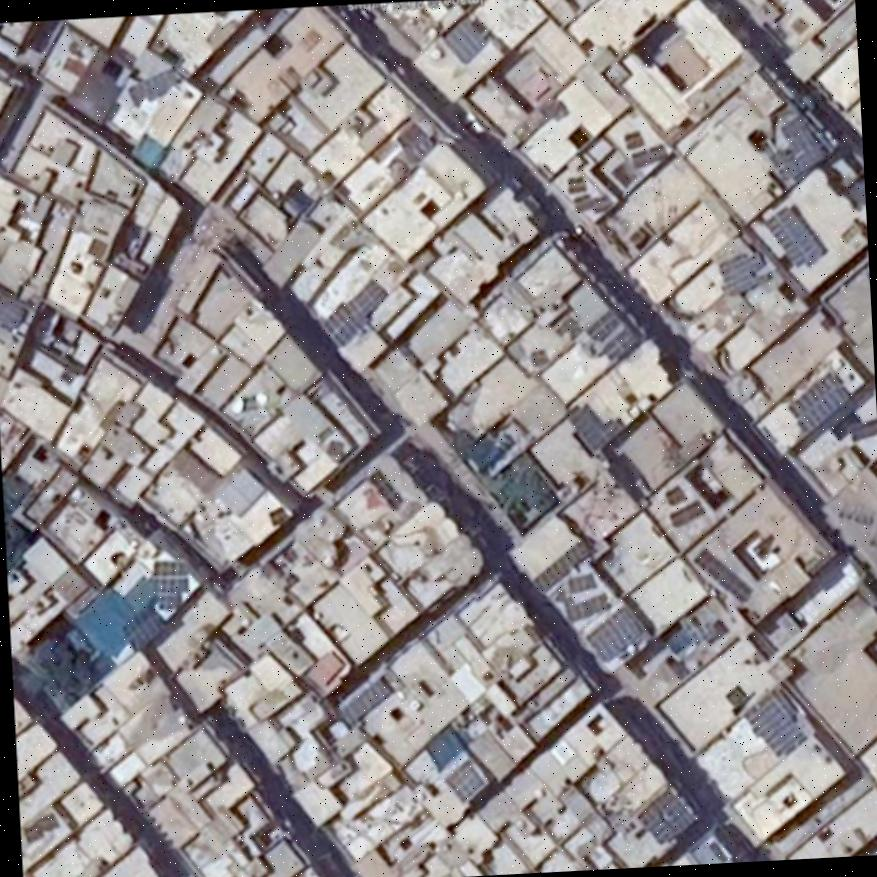Solarpanel: (761, 114, 827, 181), (787, 372, 849, 433), (763, 204, 822, 267), (744, 695, 802, 758), (586, 607, 646, 662), (693, 548, 751, 603), (533, 540, 592, 593), (638, 791, 694, 845), (572, 399, 619, 450), (339, 680, 389, 727), (320, 302, 371, 347), (718, 253, 769, 295), (368, 470, 404, 509), (154, 562, 182, 608), (447, 763, 480, 801), (352, 279, 386, 312), (569, 595, 607, 621), (589, 310, 620, 340), (604, 330, 636, 359), (670, 502, 702, 527), (631, 147, 664, 168), (569, 575, 593, 593), (591, 196, 613, 213), (663, 488, 681, 505), (568, 179, 585, 193), (573, 196, 590, 209), (627, 135, 642, 149)
